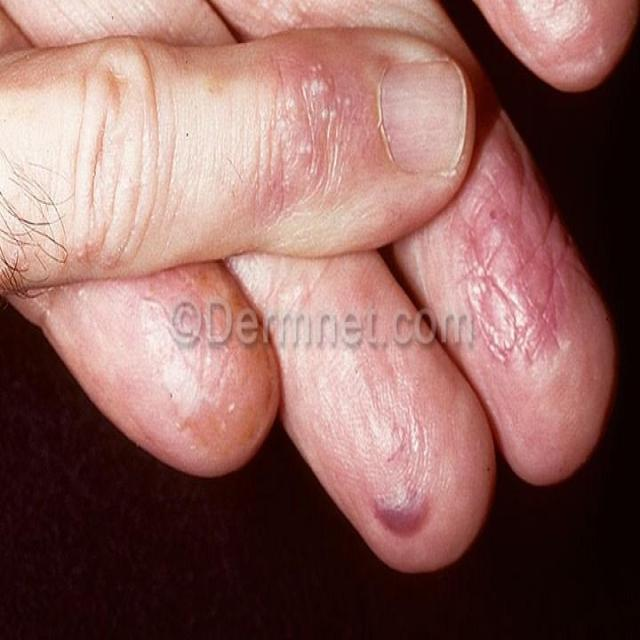Eczema: (162, 44, 576, 520)
